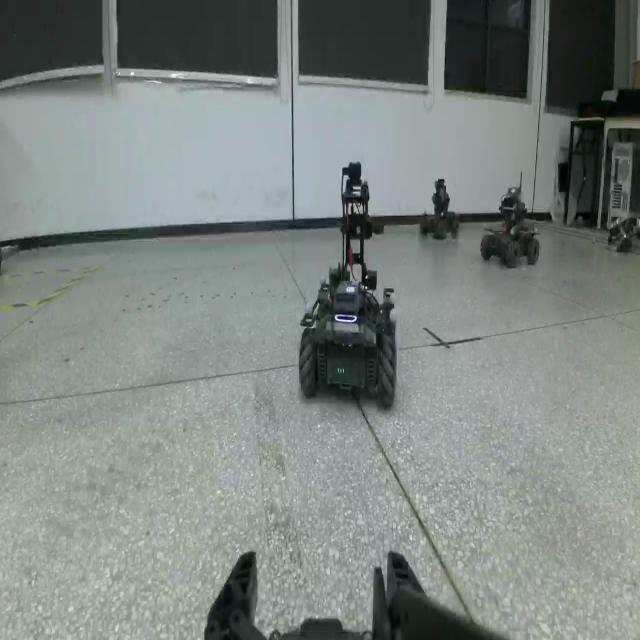ep: (288, 154, 399, 412)
s1: (481, 170, 540, 271), (416, 173, 460, 247)
